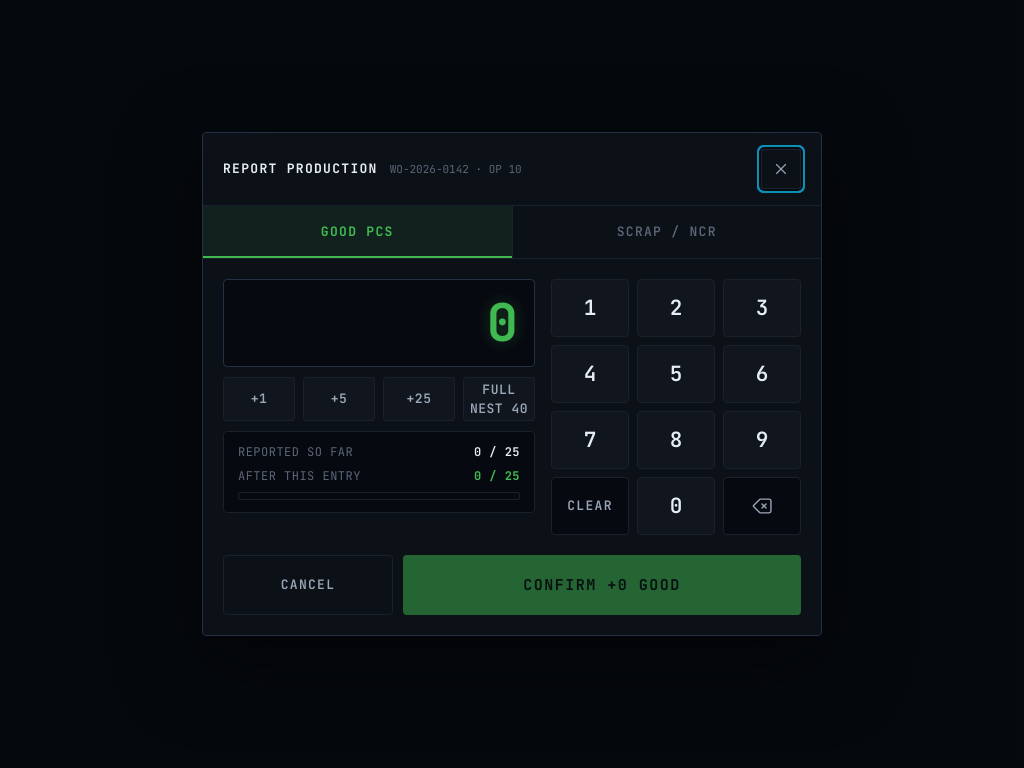
Test: KioskCompleteModal — quantity quick adds › offers the same row as the REPORT modal, in the same order
Note: …and one tap still means +1 there, unchanged by the refactor.
Click the button "+1".
click(259, 399)  # box [223,377,295,421]
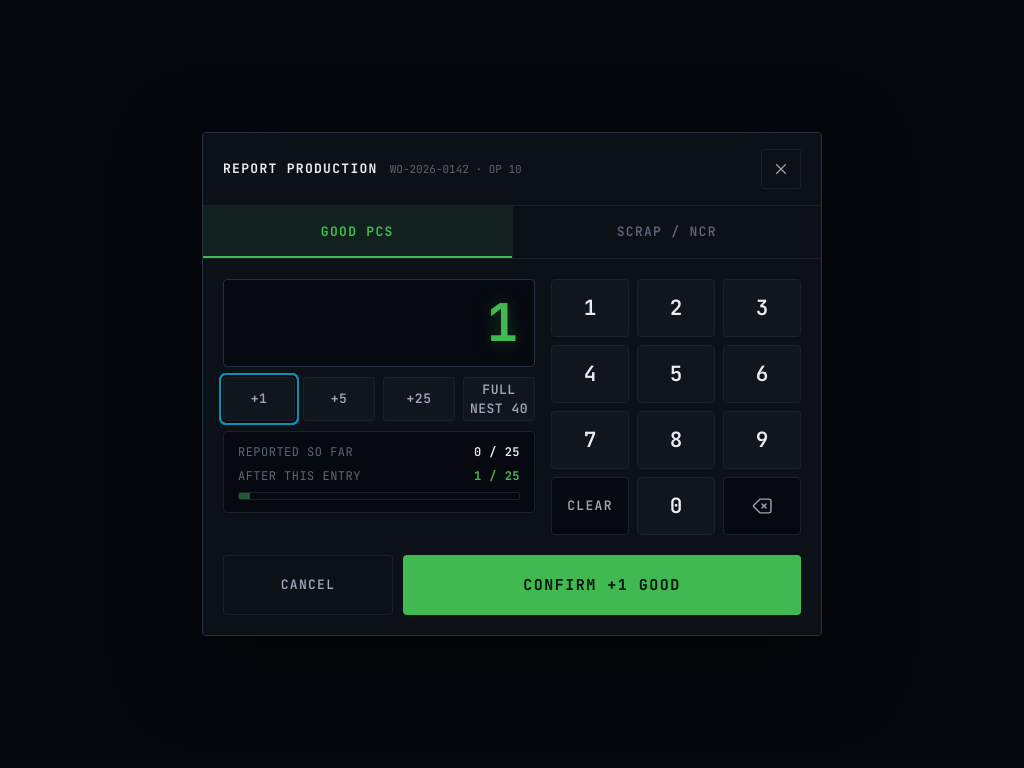
Now the text with test id "kiosk-report-qty" reads "1", box [487,288,518,357]
